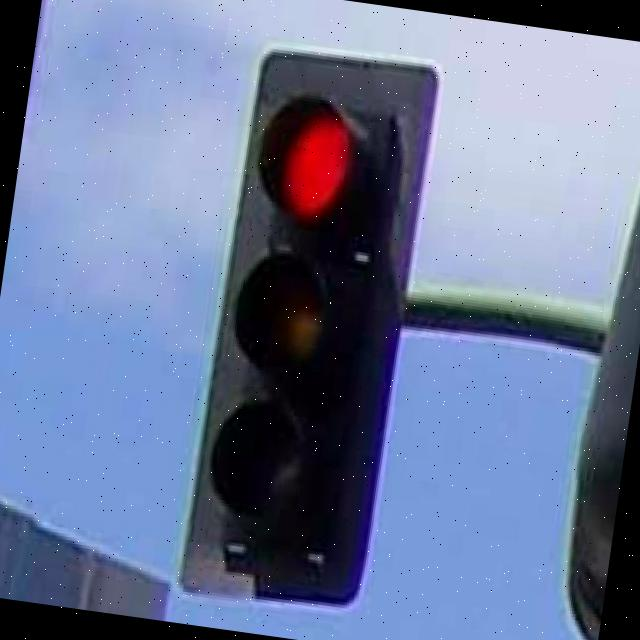Czerwone swiatlo: (195, 57, 424, 586)
